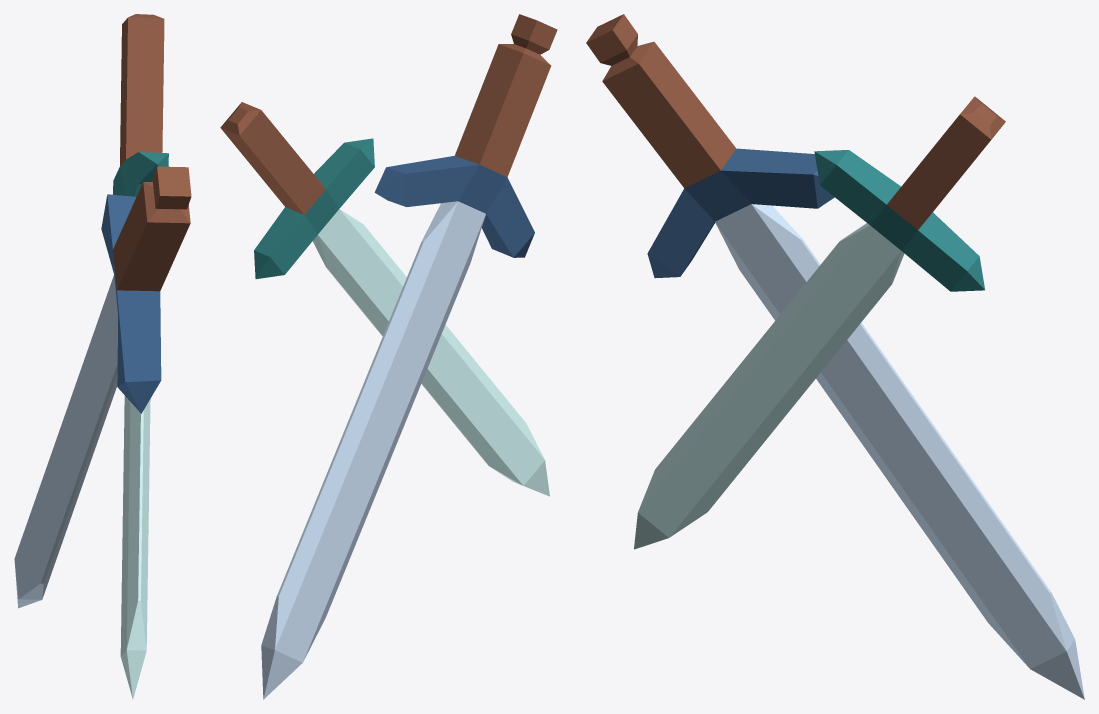
The model's file is dual_wield.glb.
The picture shows the model from 3 angles, left to right: view 1: azimuth 30°, elevation 25°; view 2: azimuth 150°, elevation 25°; view 3: azimuth 270°, elevation 25°; orthographic projection. The views are drawn at different scales.
Visible parts, largest first — view 1: Cube; view 2: Cube; view 3: Cube.
Part boxes in pixels (x1,y1,x2,y2): Cube: [14, 14, 191, 699]; Cube: [220, 14, 557, 699]; Cube: [586, 14, 1084, 699].
Bounding box in the file's own units: 1.62 × 4.87 × 3.42.
Materials: 2 (2 with a texture image).
